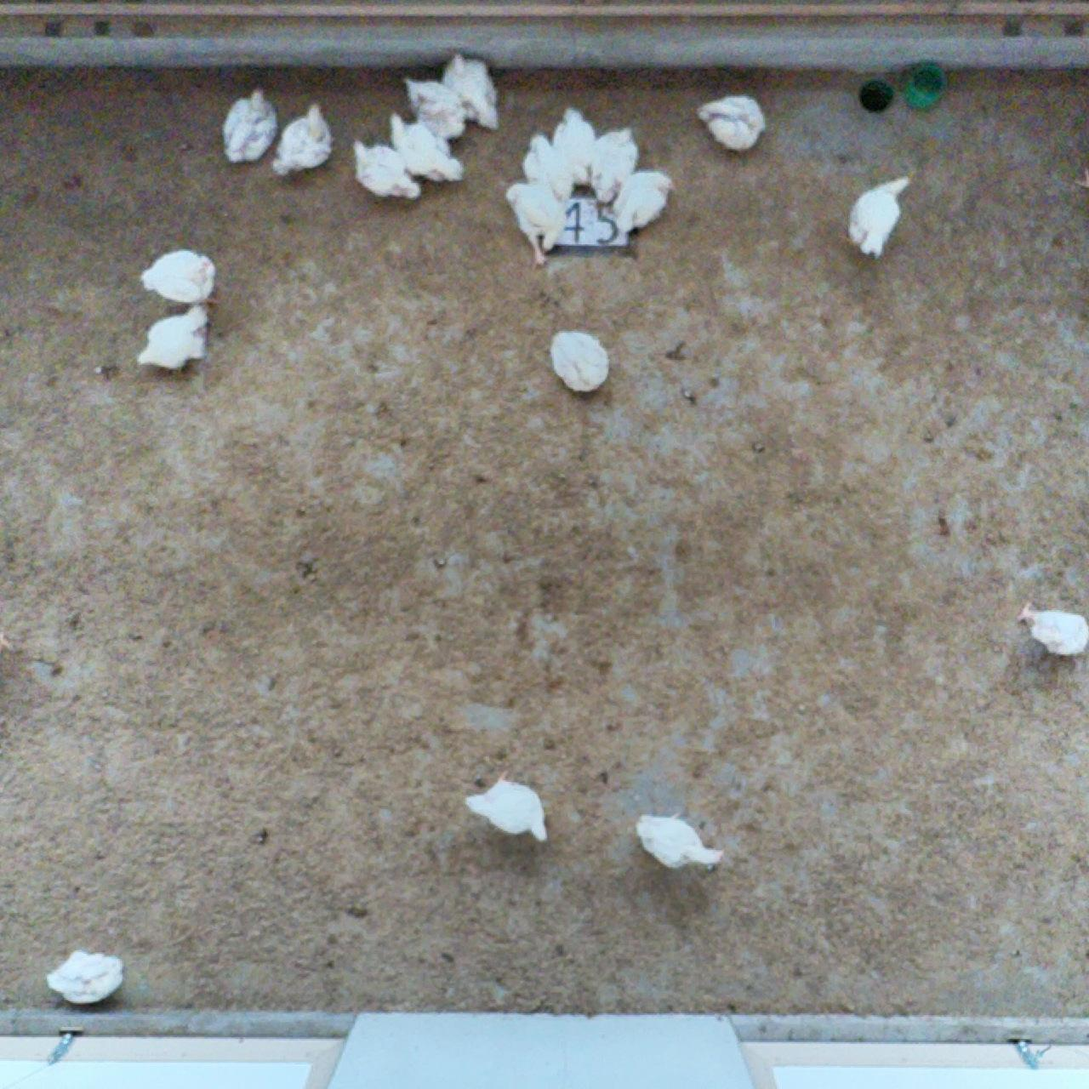chicken: (457, 774, 566, 852), (123, 303, 236, 378), (835, 172, 919, 261), (45, 939, 141, 1015), (631, 811, 722, 885), (543, 326, 618, 408), (120, 252, 244, 299), (693, 91, 772, 163), (584, 122, 650, 206), (269, 106, 340, 183), (383, 113, 462, 181), (218, 81, 277, 171), (440, 48, 506, 128), (352, 143, 422, 214), (503, 182, 564, 263), (394, 81, 483, 134), (1018, 594, 1089, 660), (609, 173, 680, 235), (518, 126, 573, 206), (553, 106, 600, 194)
